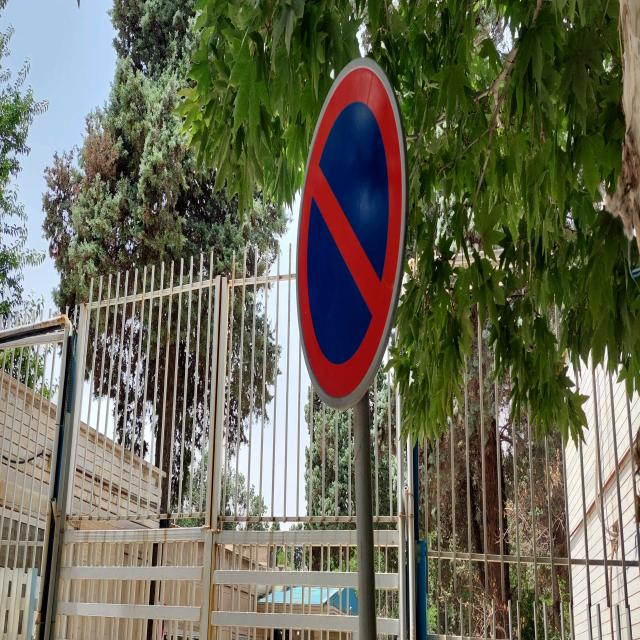forb_stopping: (294, 59, 407, 415)
